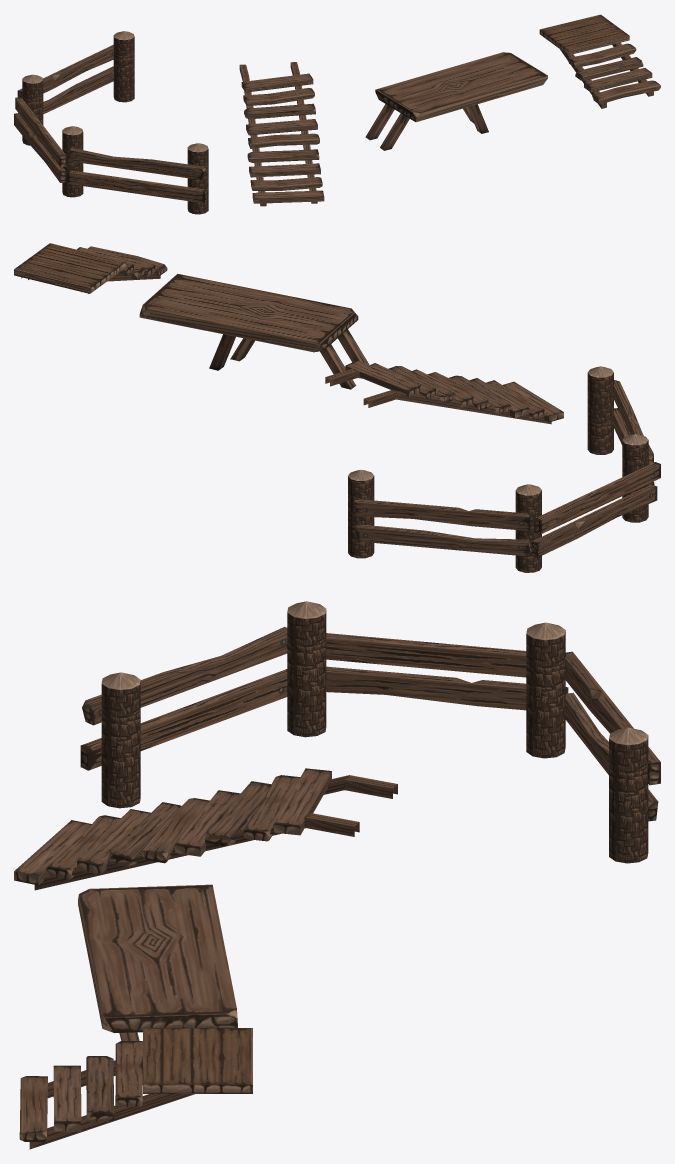
The model's file is Stair.fbx.
3 views of the same model, one above another, from view 1: azimuth 30°, elevation 25°; view 2: azimuth 150°, elevation 25°; view 3: azimuth 270°, elevation 25° (orthographic). The views are drawn at different scales.
Parts seen in each view (by area): view 1: Object002, Object002.003, Object002.002, Object002.001; view 2: Object002, Object002.002, Object002.003, Object002.001; view 3: Object002, Object002.002, Object002.003, Object002.001.
Part boxes in pixels (x1,y1,x2,y2): Object002: [14, 31, 208, 214]; Object002.003: [239, 62, 324, 206]; Object002.002: [365, 52, 547, 150]; Object002.001: [539, 14, 660, 108]; Object002: [348, 366, 660, 572]; Object002.002: [139, 273, 369, 389]; Object002.003: [325, 360, 563, 424]; Object002.001: [14, 243, 167, 293]; Object002: [80, 601, 660, 863]; Object002.002: [78, 884, 237, 1040]; Object002.003: [14, 768, 397, 890]; Object002.001: [19, 1028, 252, 1149].
Bounding box in the file's own units: 564 × 68.51 × 313.
